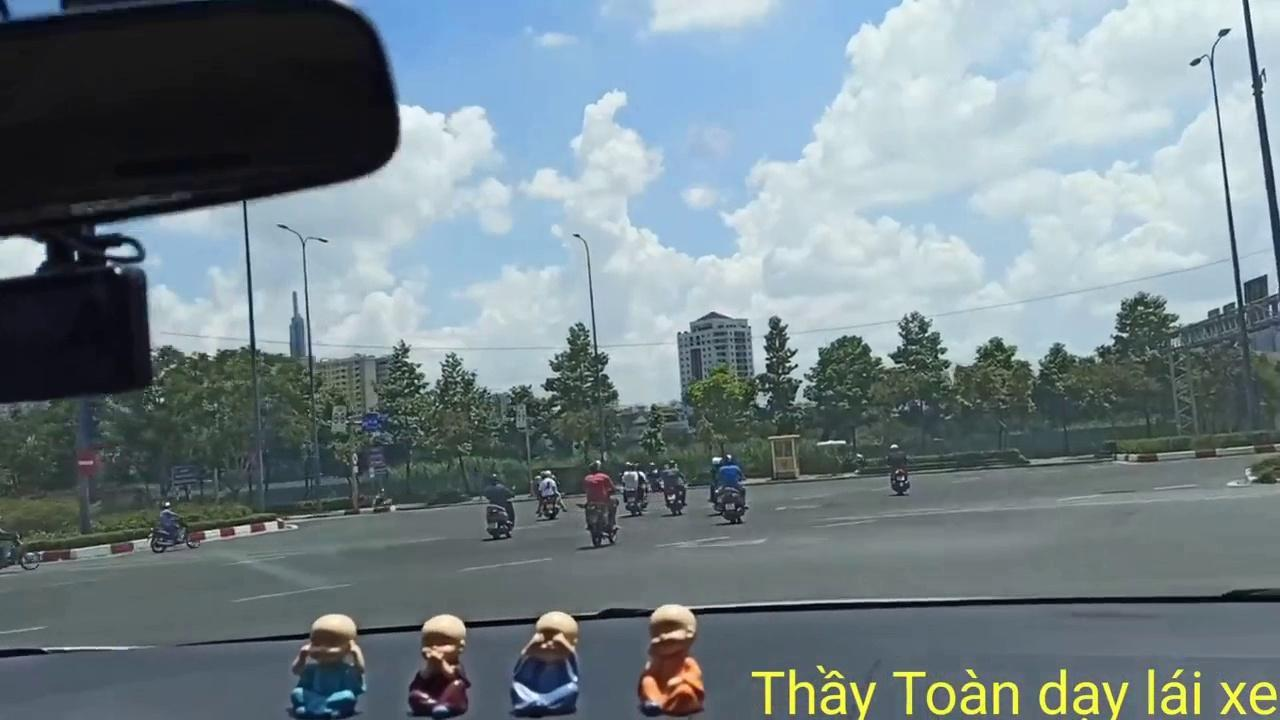Cấm cac phương tiện hoạt động trong khung giờ cố định: (331, 404, 347, 433)
Cấm đi ngược chiều: (74, 448, 100, 479)
